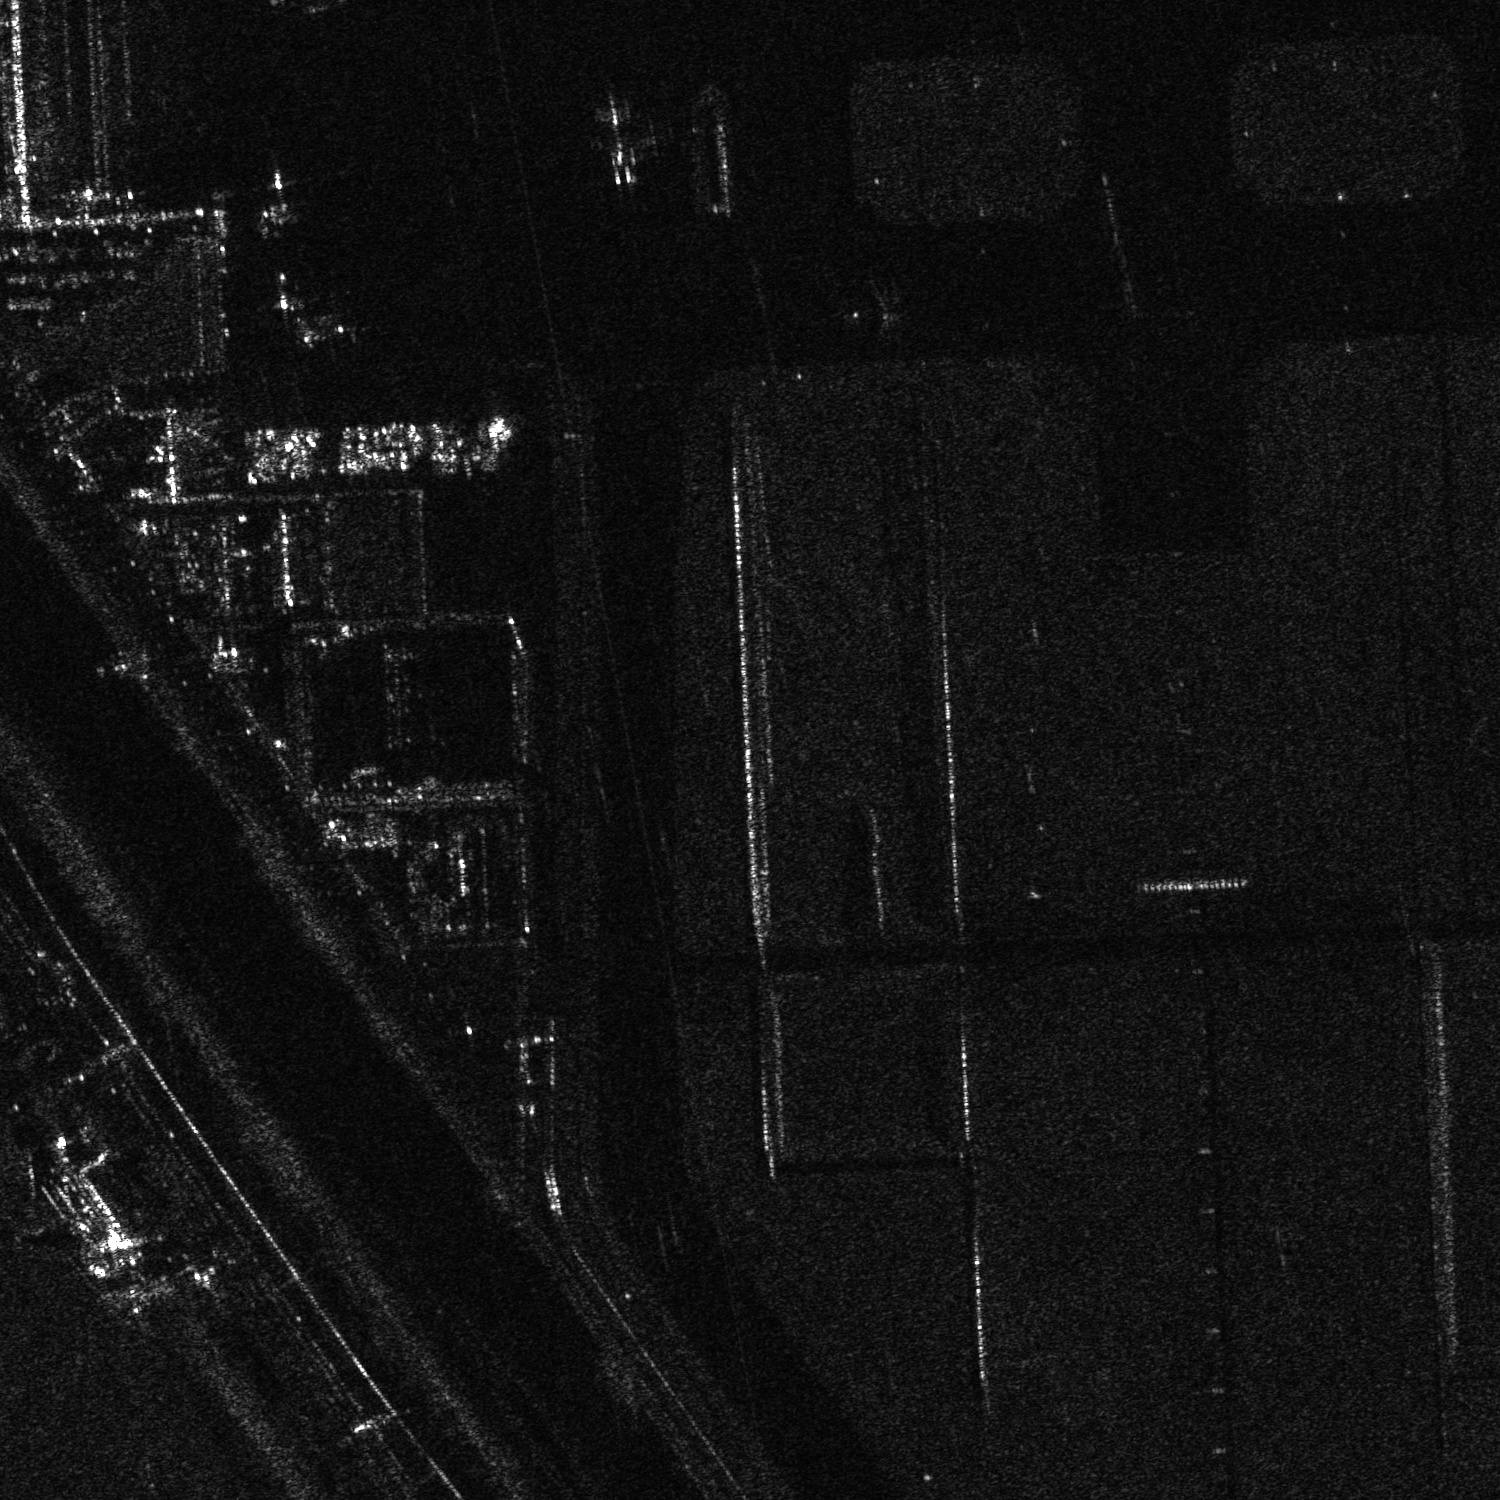A220: (250, 168, 302, 225), (261, 269, 306, 323)
other: (560, 102, 674, 185), (283, 319, 349, 353)
